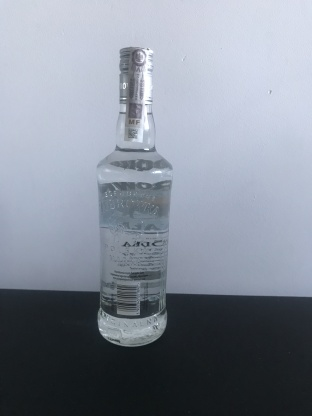nakretka: (116, 43, 155, 107)
